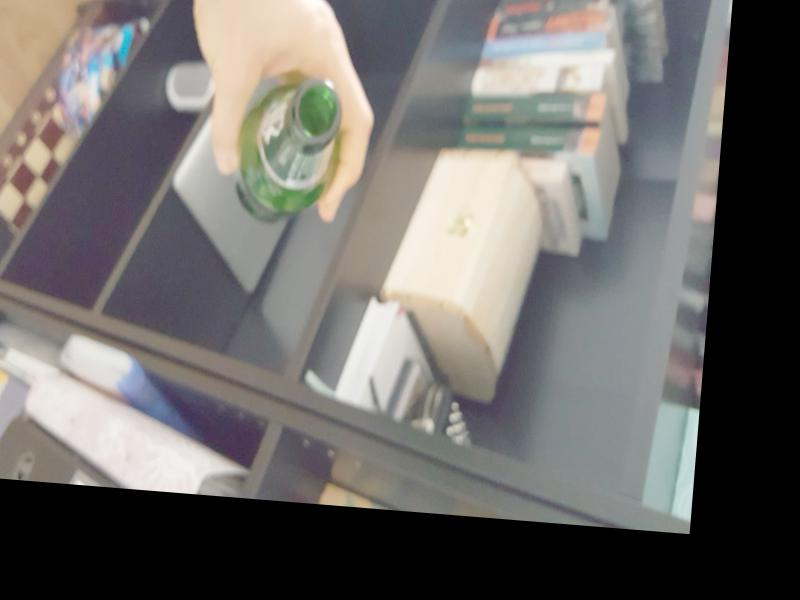Beer: (226, 70, 342, 227)
